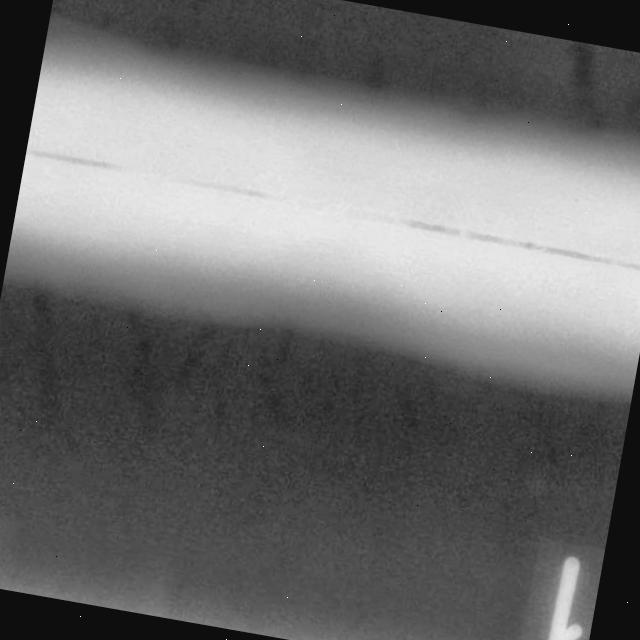LoP-LoF: (18, 109, 640, 298)
